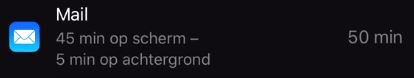name: (48, 4, 105, 27)
time: (54, 49, 99, 72), (53, 29, 107, 48)
